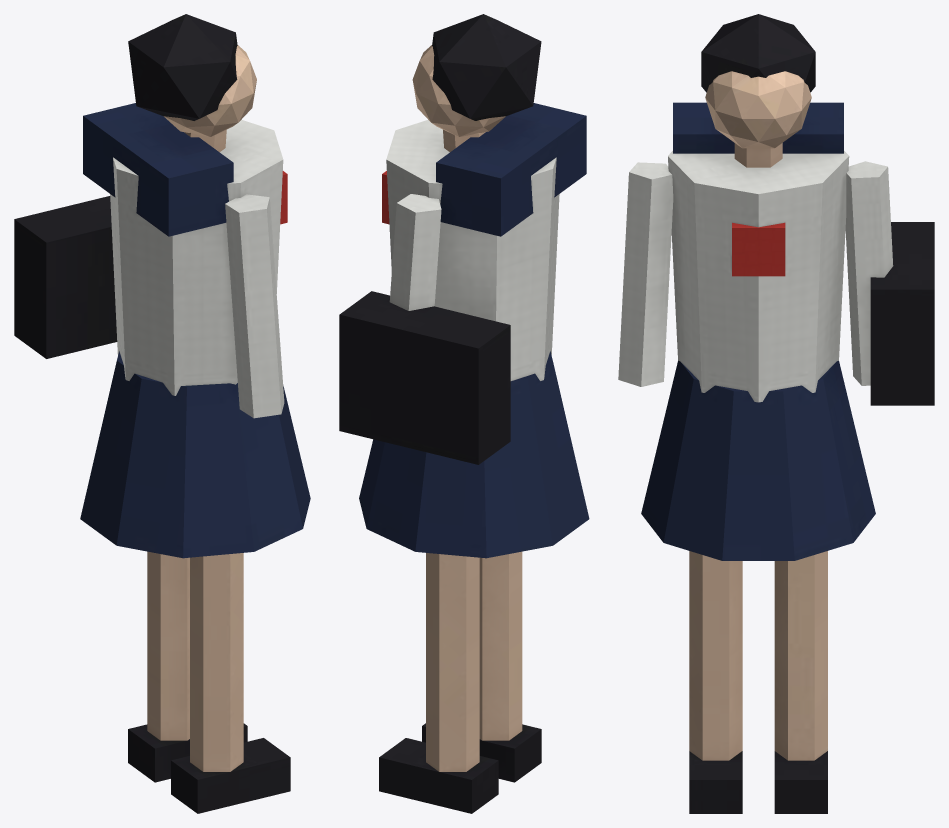
Rendered from skolelev_tex.glb.
3 views of the same model, side by side, from view 1: azimuth 30°, elevation 25°; view 2: azimuth 150°, elevation 25°; view 3: azimuth 270°, elevation 25° (orthographic).
Visible parts, largest first — view 1: skolelev; view 2: skolelev; view 3: skolelev.
Boxes of the visible parts, x1=… form: skolelev: x1=14, y1=14, x2=310, y2=813; skolelev: x1=339, y1=14, x2=589, y2=813; skolelev: x1=618, y1=14, x2=934, y2=813.
Bounding box in the file's own units: 0.4185 × 1.58 × 0.5927.
6 materials, 6 textured.
